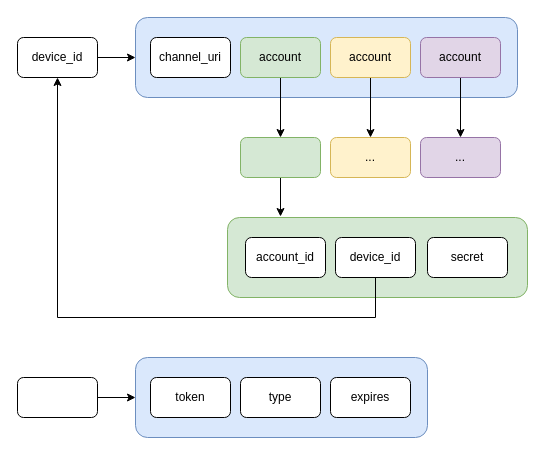
The diagram is 545 pixels wide and 455 high, and some of its shapes have lost their labels. The centre of each missing label's shape, as x and y in pixels:
"WNS": pixel 57 397
node: pixel 280 157
